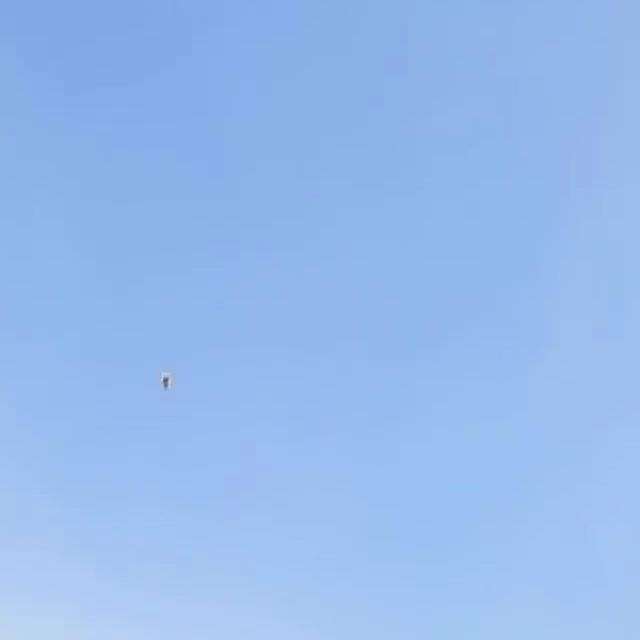drone: (152, 368, 178, 398)
